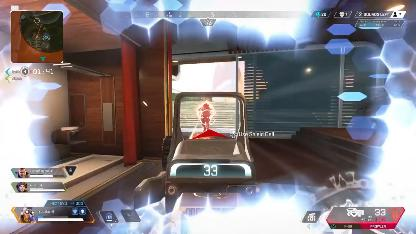Target: (200, 102, 210, 130)
